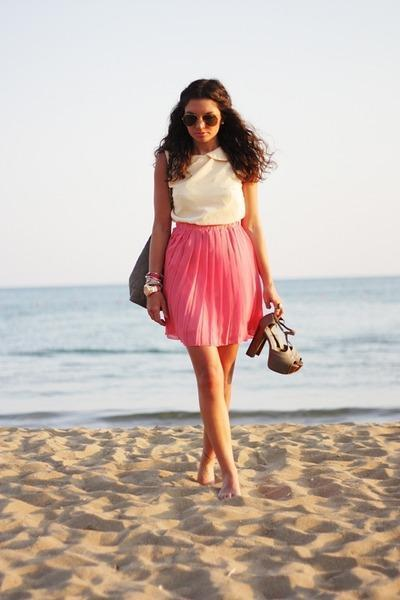bag: (129, 257, 149, 291)
shirt: (169, 156, 244, 224)
shoe: (246, 304, 302, 371)
skirt: (160, 219, 285, 347)
